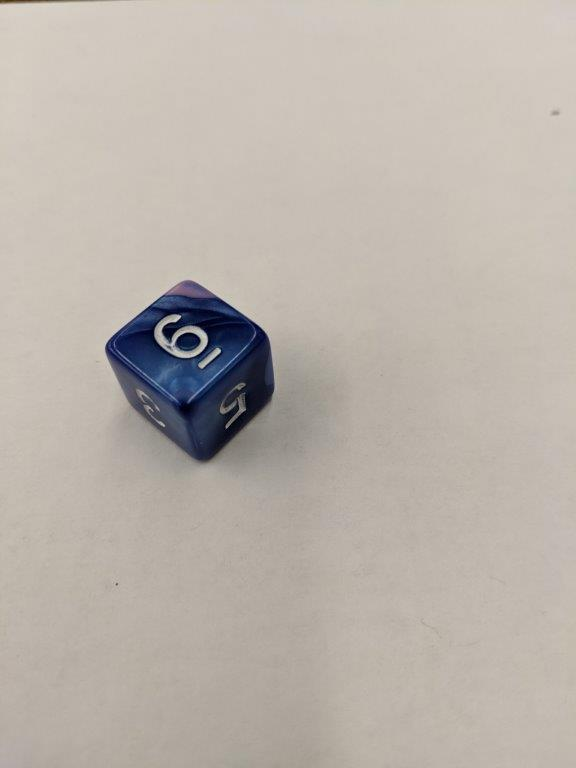d6-6: (104, 279, 276, 463)
